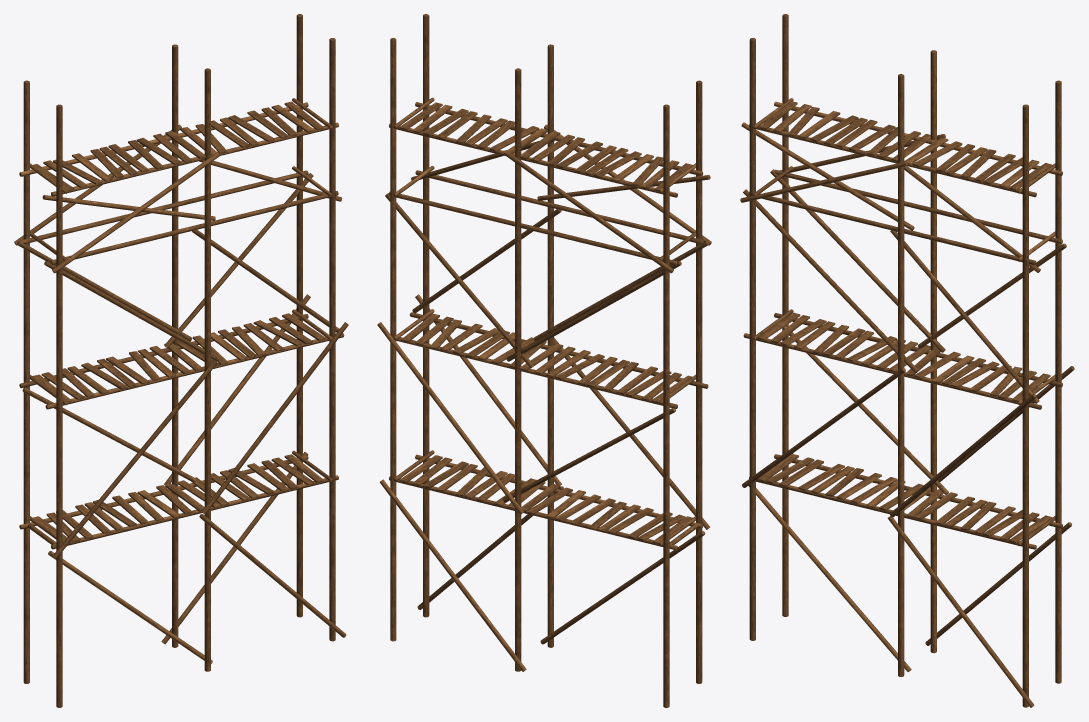
Rendered from SM_Scaffolding_01.fbx.
3 views of the same model, side by side, from view 1: azimuth 30°, elevation 25°; view 2: azimuth 150°, elevation 25°; view 3: azimuth 330°, elevation 25° (orthographic).
Visible parts, largest first — view 1: SM_Scaffolding_01_LOD0; view 2: SM_Scaffolding_01_LOD0; view 3: SM_Scaffolding_01_LOD0.
Part boxes in pixels (box(x1,y1,x2,y2)): SM_Scaffolding_01_LOD0: box(14, 14, 348, 707); SM_Scaffolding_01_LOD0: box(377, 14, 711, 707); SM_Scaffolding_01_LOD0: box(740, 14, 1074, 707).
Size of the model in its own units: 529 by 123 by 1015.
1 material, 1 textured.
